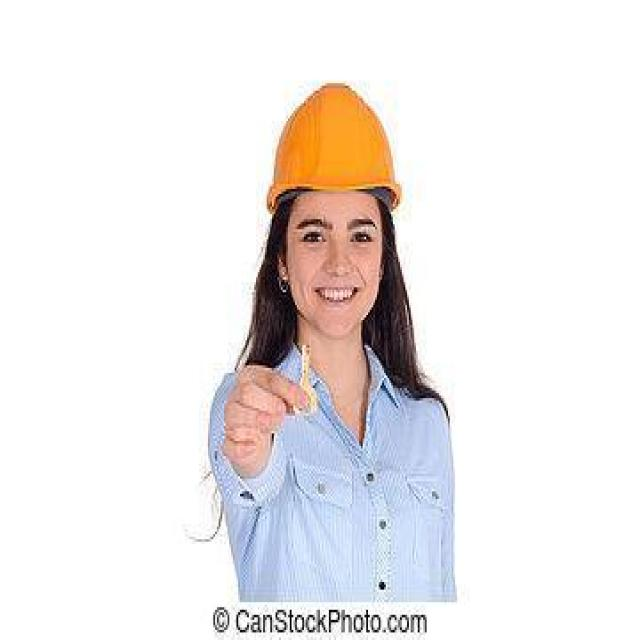helmet: (265, 83, 403, 212)
